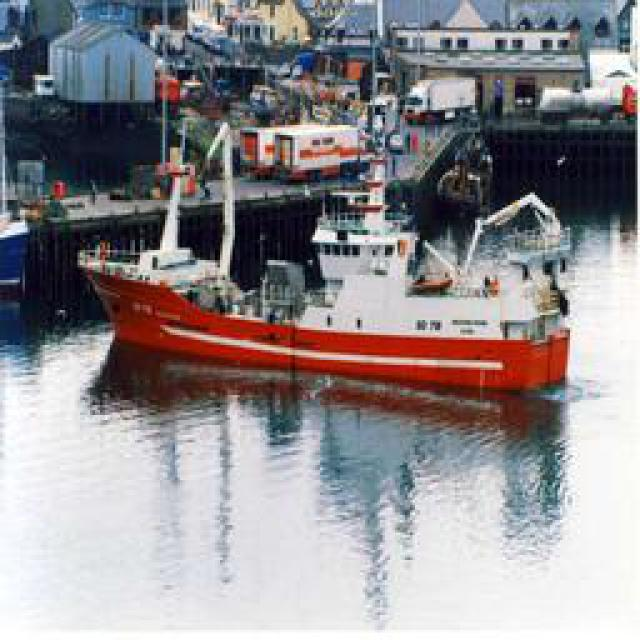Ship: (83, 142, 578, 392)
